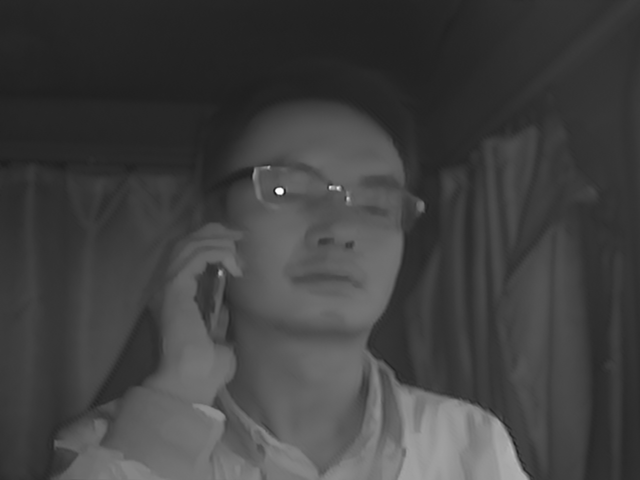hand: (144, 222, 252, 388)
